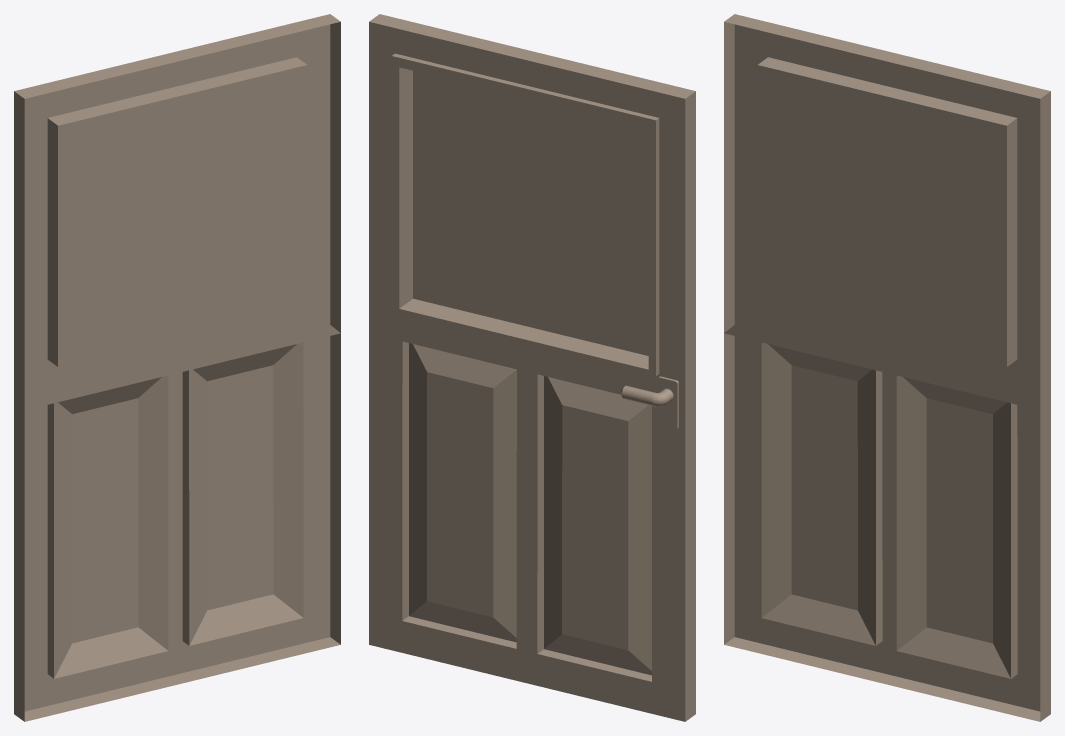
Rendered from Porte.fbx.
3 renders of one model, left to right at view 1: azimuth 30°, elevation 25°; view 2: azimuth 150°, elevation 25°; view 3: azimuth 330°, elevation 25°, orthographic.
Parts seen in each view (by area): view 1: Plane; view 2: Plane; view 3: Plane.
Boxes of the visible parts, x1,y1,x2,y2 form: Plane: (14,14,340,721); Plane: (369,14,695,721); Plane: (724,14,1050,721).
Size of the model in its own units: 200 by 377 by 25.87.
